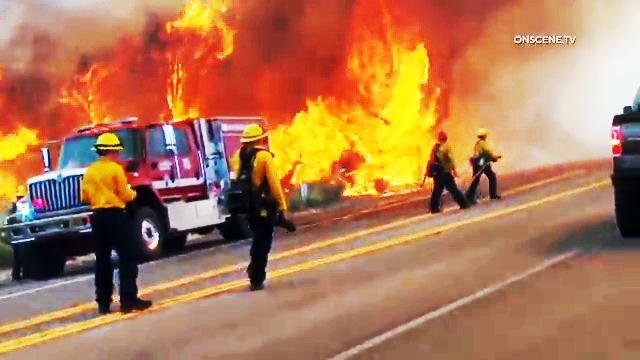fire: (278, 19, 429, 186), (148, 55, 212, 115), (0, 117, 37, 190)
smoke: (483, 65, 601, 119)
